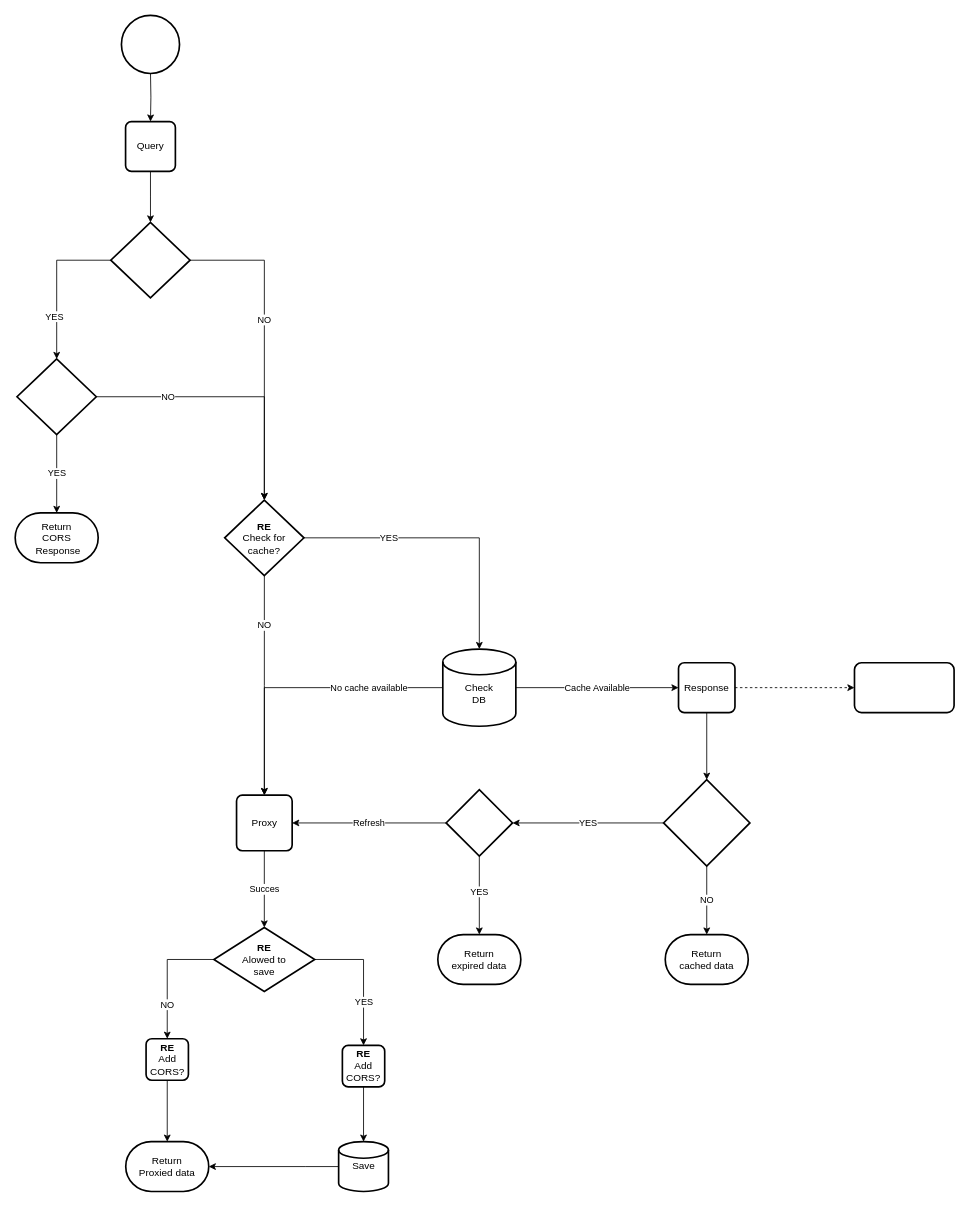
Some shapes in this 969 by 1206 pixel diagram are drawn without their labels. The shapes that lost their labels are listed below. From the top down, each one's centre as x and y in pixels, then its label:
At pixel 150 44: "Start".
At pixel 150 259: "RE CORS Enabled".
At pixel 56 396: "Is Option".
At pixel 903 687: "FUTURE Status Response".
At pixel 479 822: "Is Offline".
At pixel 706 823: "RE Has Expired".
